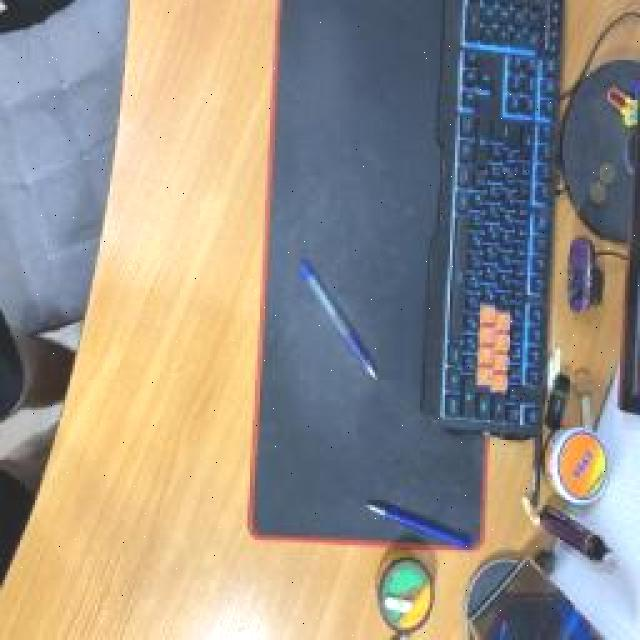pen: (298, 260, 378, 385)
